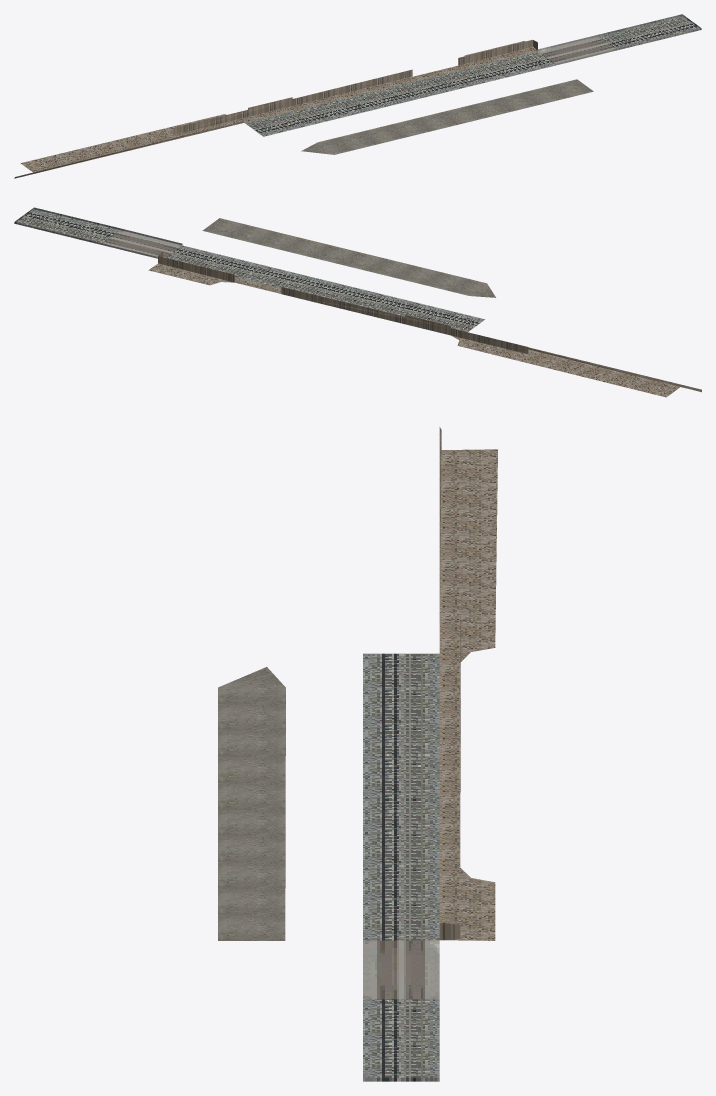
File: lodtrk4_las2.obj
The picture shows the model from 3 angles, top to bottom: view 1: azimuth 30°, elevation 25°; view 2: azimuth 150°, elevation 25°; view 3: azimuth 270°, elevation 25°; orthographic projection. The views are drawn at different scales.
Parts seen in each view (by area): view 1: LODTRK4_las2; view 2: LODTRK4_las2; view 3: LODTRK4_las2.
Boxes of the visible parts, x1,y1,x2,y2 form: LODTRK4_las2: [14, 14, 701, 178]; LODTRK4_las2: [14, 207, 701, 397]; LODTRK4_las2: [218, 427, 497, 1081].
Size of the model in its own units: 223 by 2.94 by 40.4.
4 materials, 4 textured.
